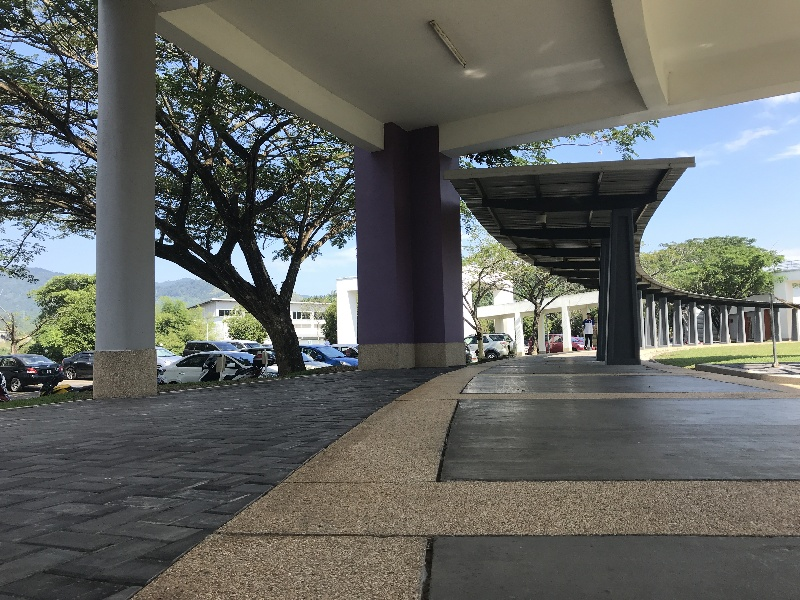Block D Pillar 5: (5, 6, 800, 485)
pillar: (344, 120, 473, 369), (87, 6, 158, 406), (597, 204, 645, 370)
